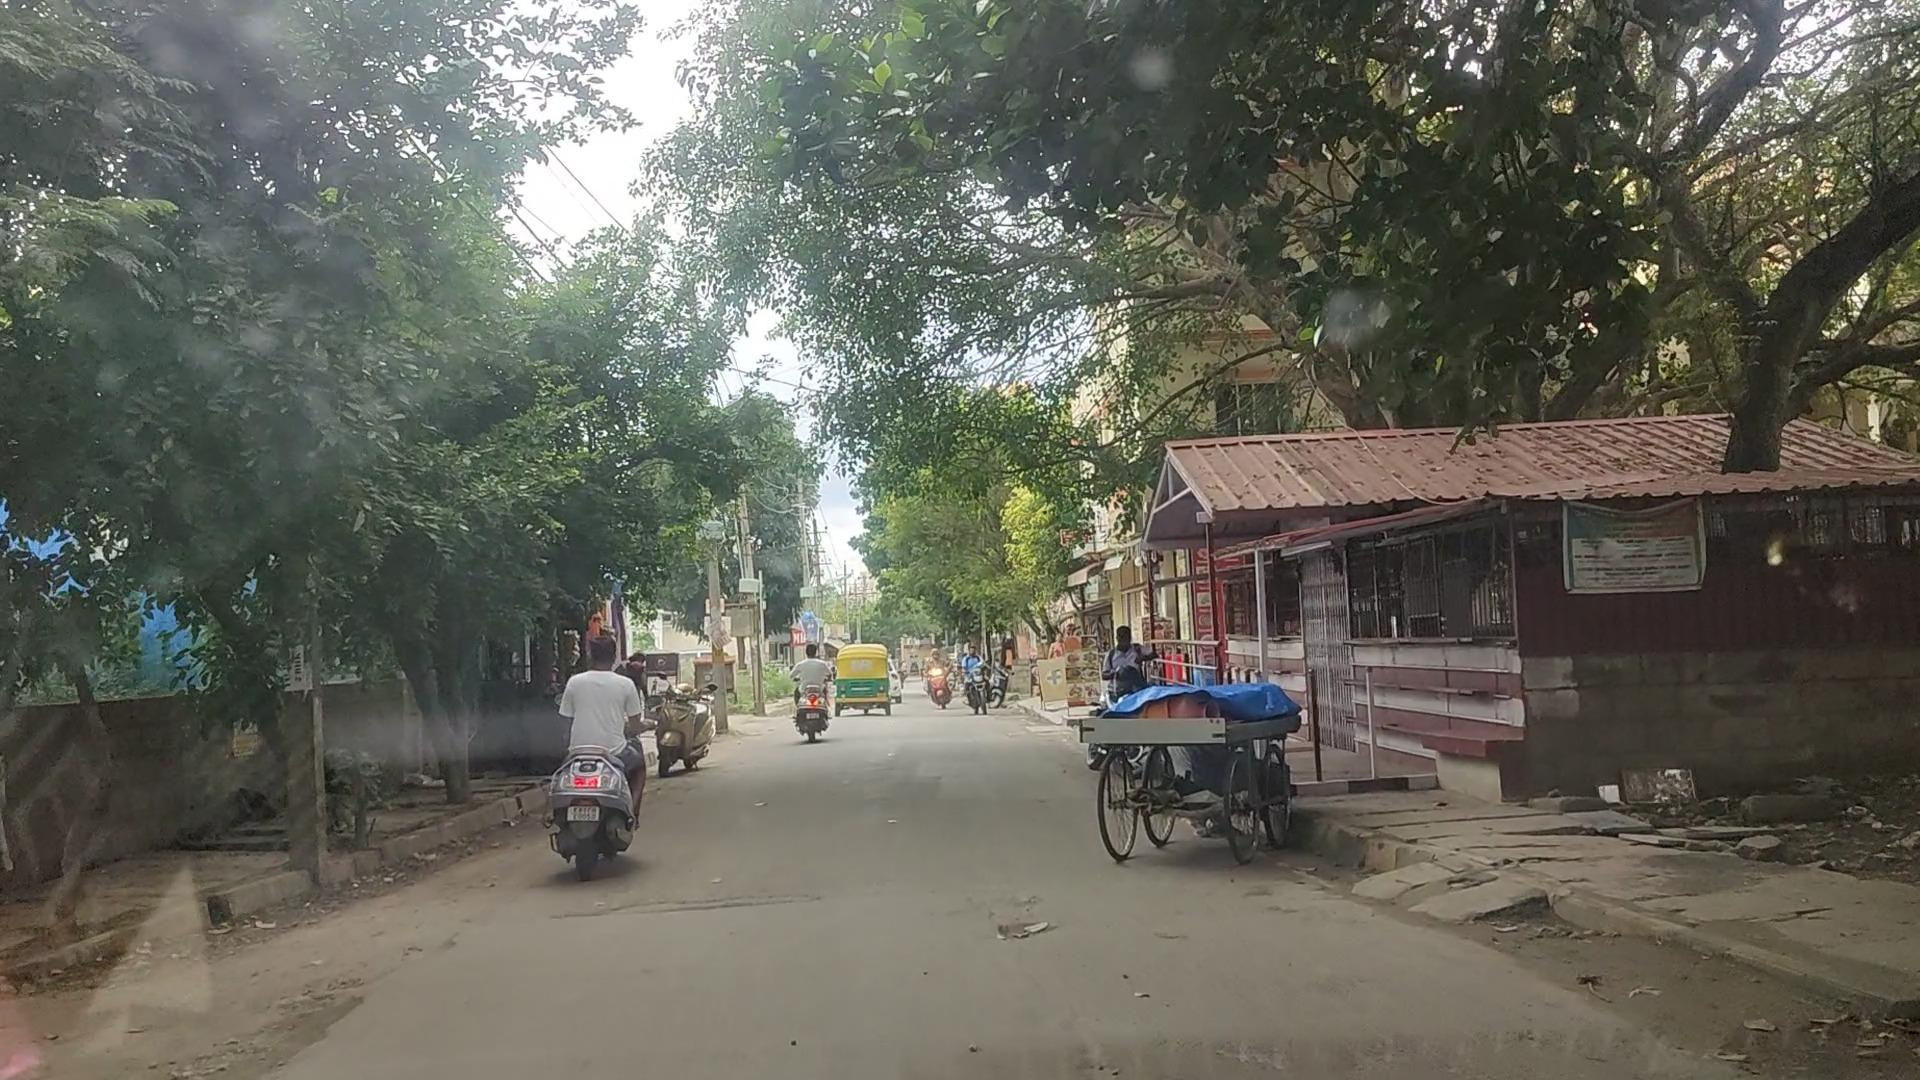LMV: (546, 634, 653, 868)
RoadDamages: (571, 884, 803, 934), (798, 645, 833, 745)
